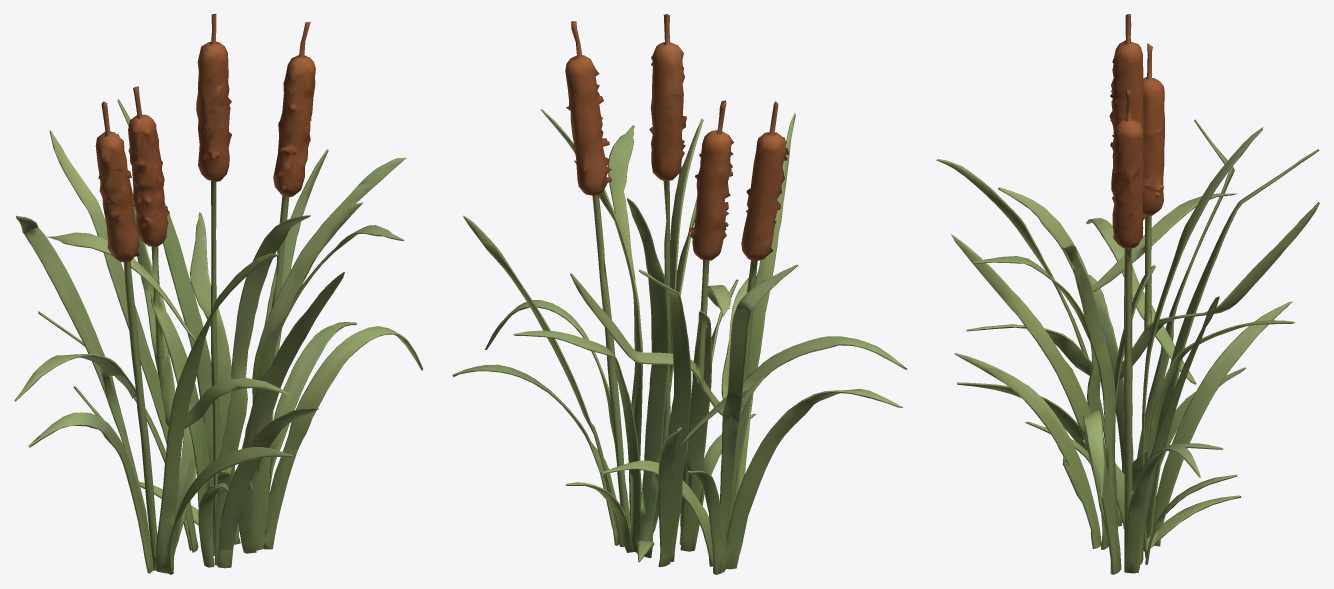
Rendered from cattails.glb.
3 renders of one model, left to right at view 1: azimuth 30°, elevation 25°; view 2: azimuth 150°, elevation 25°; view 3: azimuth 270°, elevation 25°, orthographic.
Visible parts, largest first — view 1: tripo_node_0750a2cd-eb31-4363-bc01-7d94fb129bc5; view 2: tripo_node_0750a2cd-eb31-4363-bc01-7d94fb129bc5; view 3: tripo_node_0750a2cd-eb31-4363-bc01-7d94fb129bc5.
Boxes of the visible parts, left/top/right/bottom form: tripo_node_0750a2cd-eb31-4363-bc01-7d94fb129bc5: left=14, top=14, right=423, bottom=574; tripo_node_0750a2cd-eb31-4363-bc01-7d94fb129bc5: left=452, top=14, right=907, bottom=574; tripo_node_0750a2cd-eb31-4363-bc01-7d94fb129bc5: left=936, top=14, right=1319, bottom=574.
Size of the model in its own units: 0.7908 by 0.9811 by 0.6366.
1 material, 1 textured.
